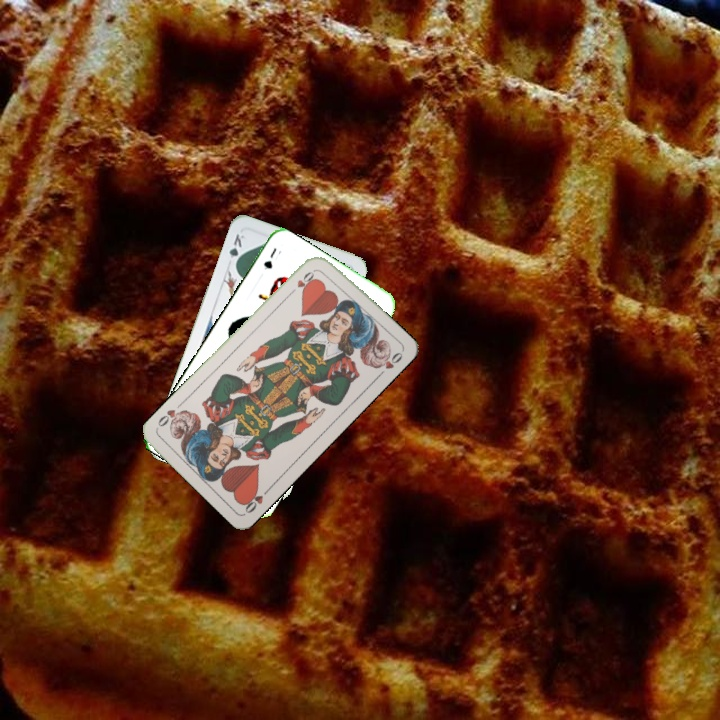GK: (225, 230, 247, 269)
GU: (259, 243, 284, 272)
HO: (240, 483, 273, 516), (286, 265, 319, 297)
